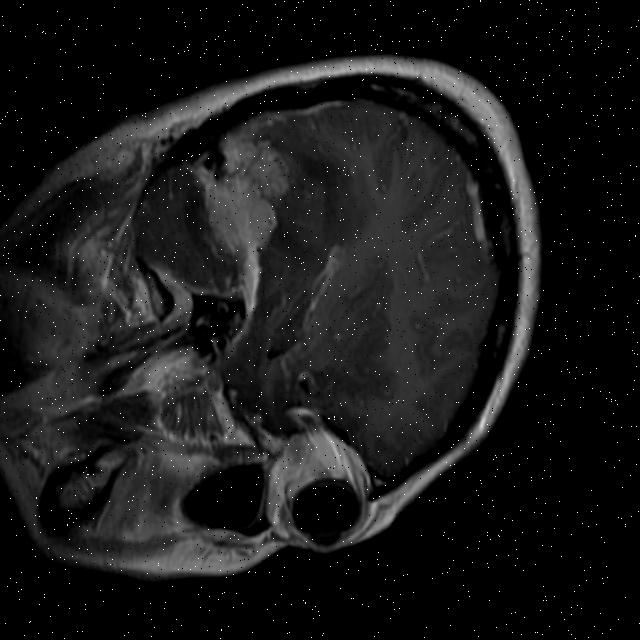Meningioma: (174, 119, 313, 281)
